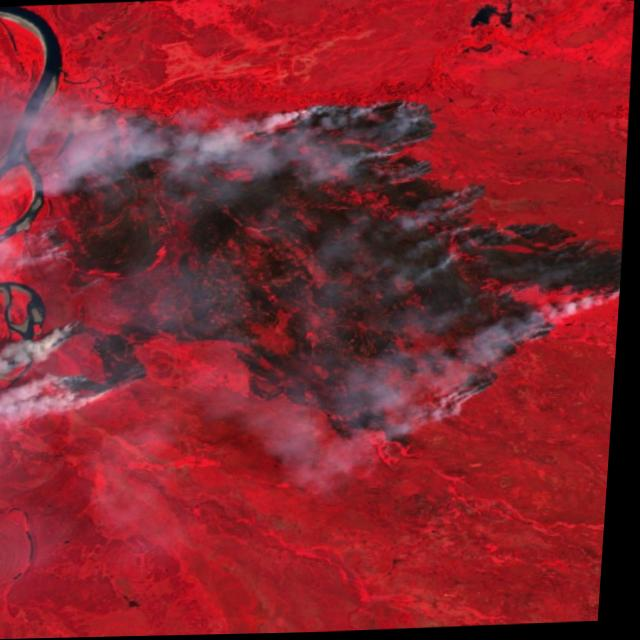fire: (21, 77, 635, 467)
